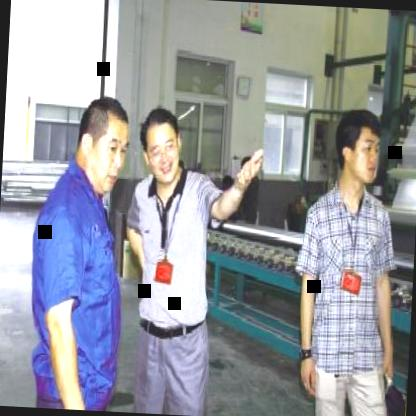head: (72, 92, 131, 196), (137, 104, 186, 188), (336, 105, 384, 190)
